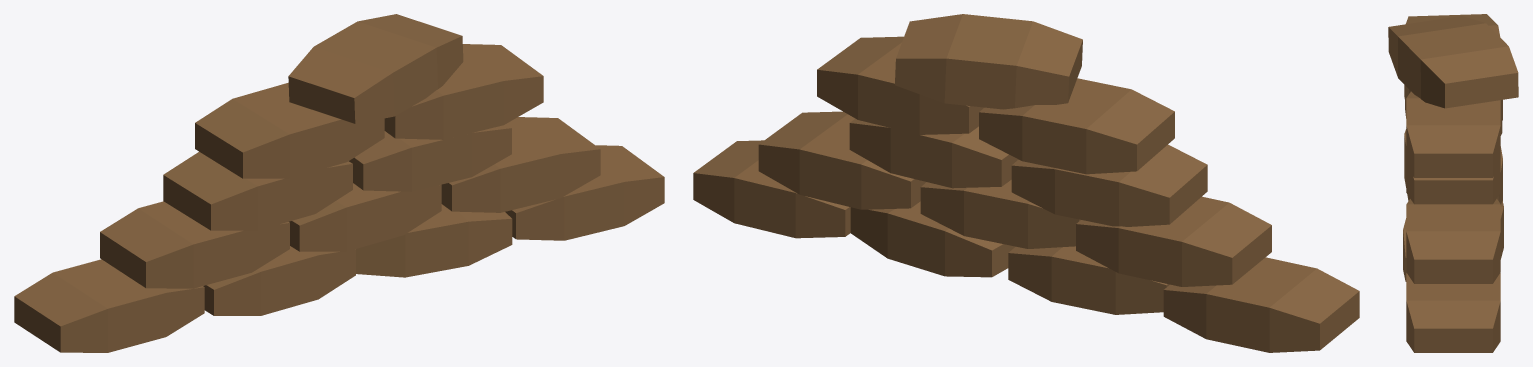
File: LPWarPack_TrenchSandBags3.fbx
3 views of the same model, side by side, from view 1: azimuth 30°, elevation 25°; view 2: azimuth 150°, elevation 25°; view 3: azimuth 270°, elevation 25° (orthographic). The views are drawn at different scales.
Visible parts, largest first — view 1: TrenchSandBags3; view 2: TrenchSandBags3; view 3: TrenchSandBags3.
Part boxes in pixels (x1,y1,x2,y2): TrenchSandBags3: (14, 14, 664, 352); TrenchSandBags3: (693, 14, 1359, 352); TrenchSandBags3: (1388, 14, 1518, 352).
Bounding box in the file's own units: 179 × 60.84 × 35.78.
